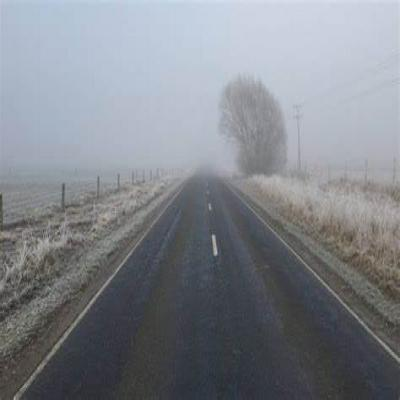iced-road: (25, 177, 400, 400)
